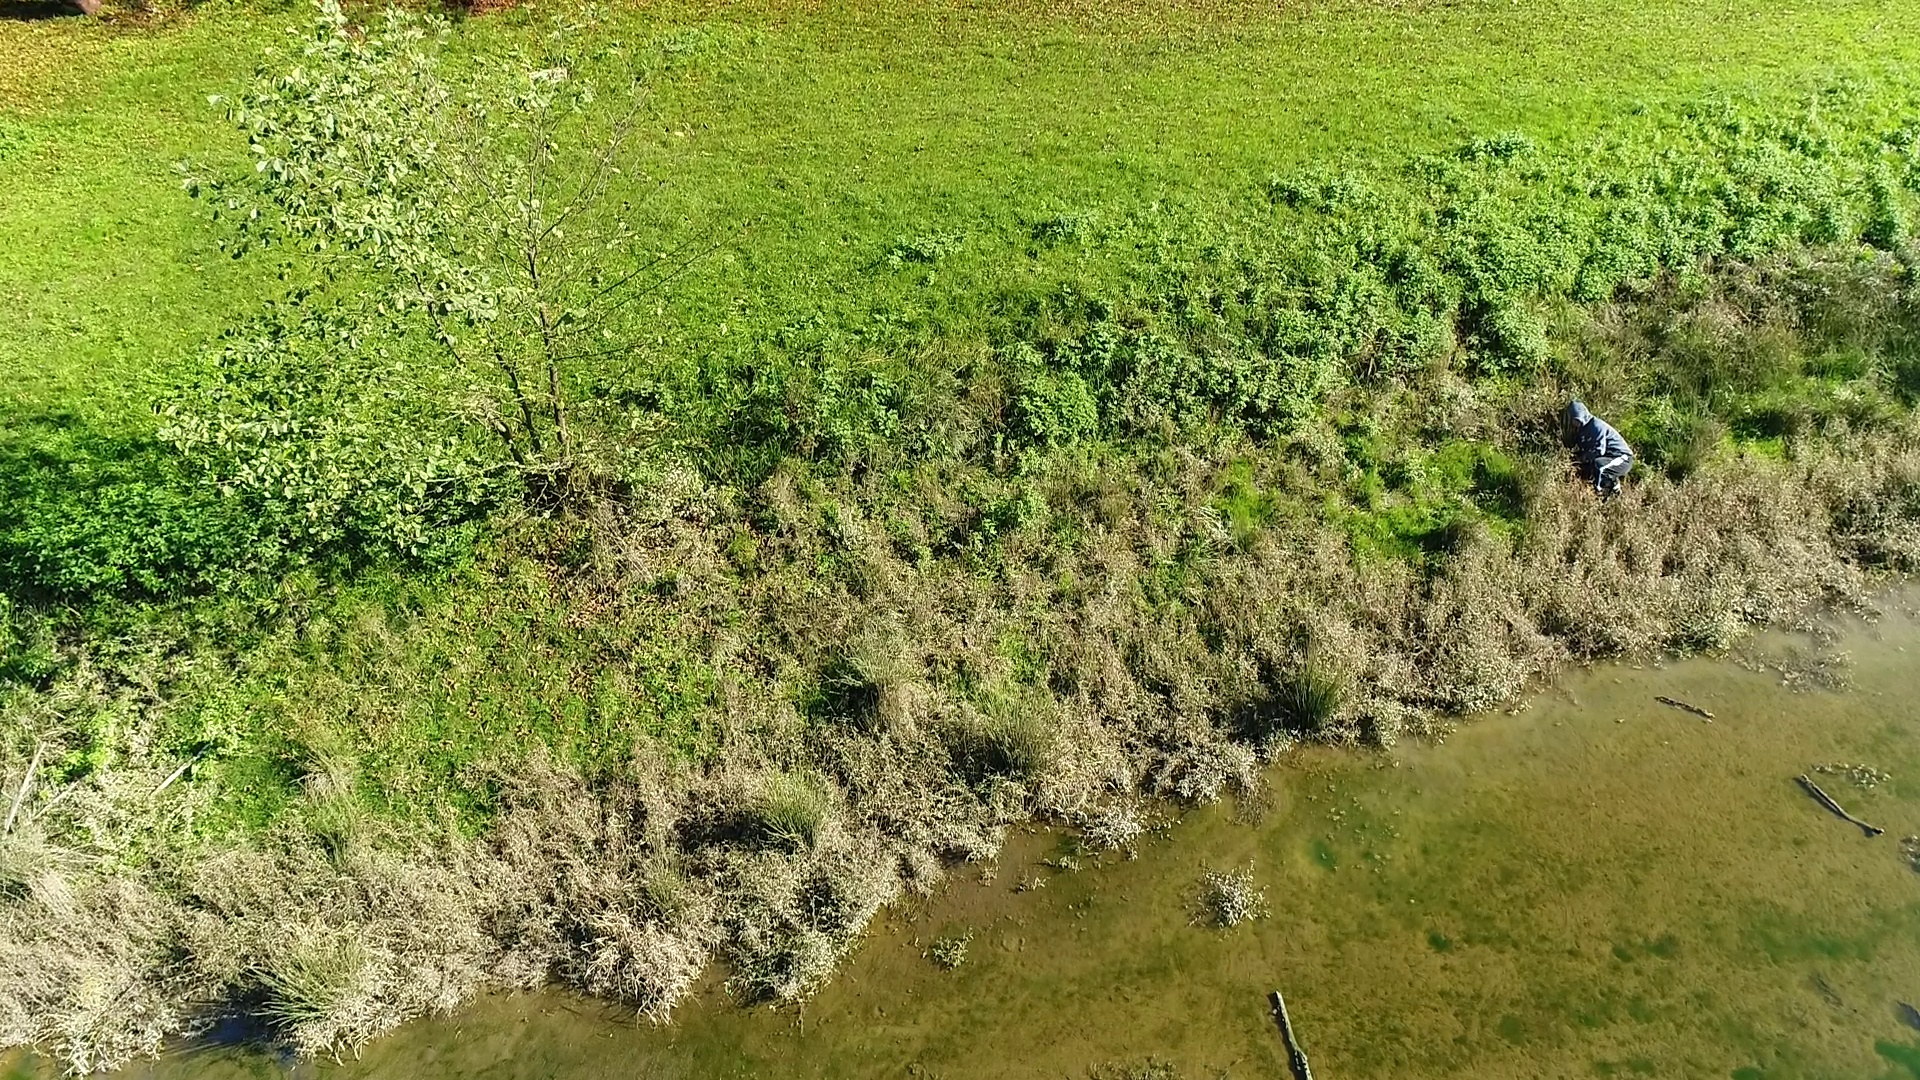not_defined: (1564, 397, 1635, 504)
